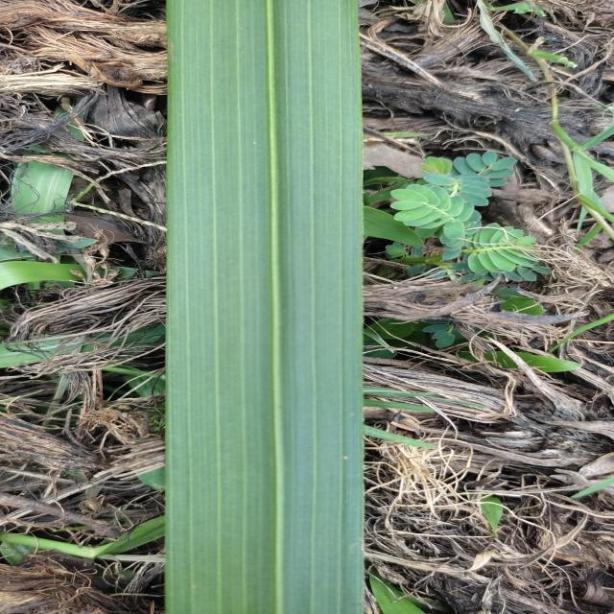Healthy: (165, 0, 366, 614)
